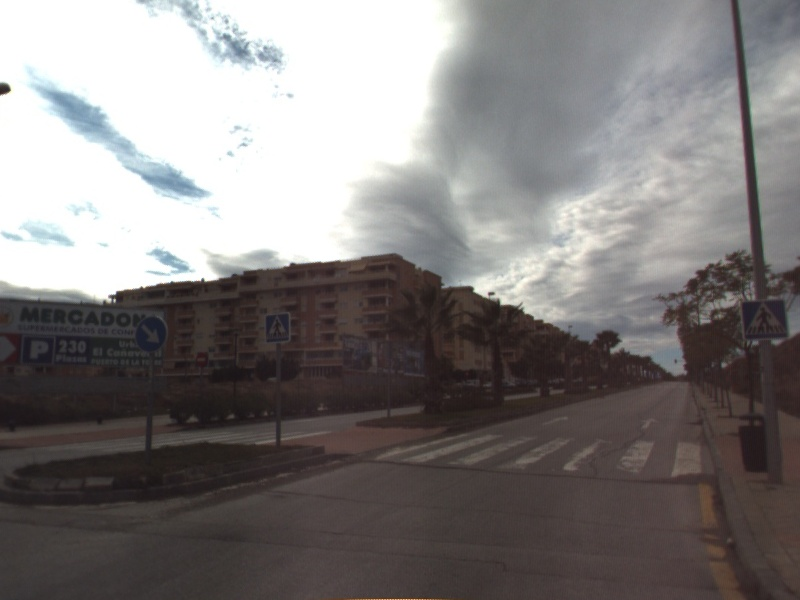STRAIGHT: (540, 413, 571, 427), (638, 416, 661, 431)
